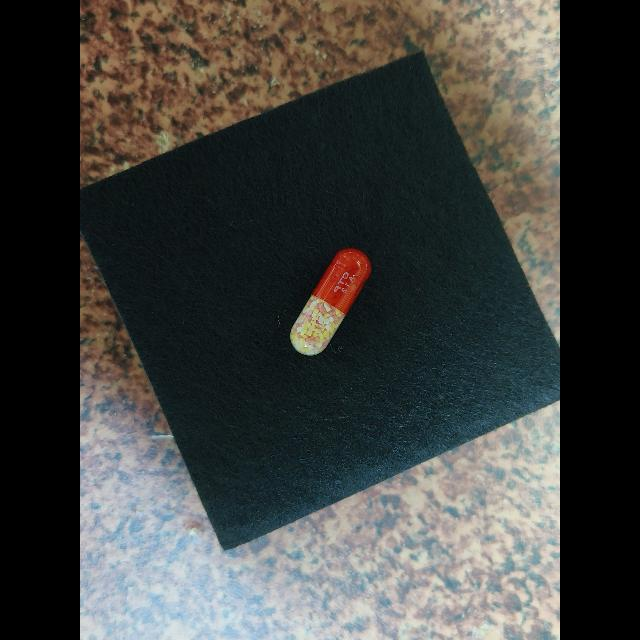Intact Capsule: (290, 248, 372, 355)
